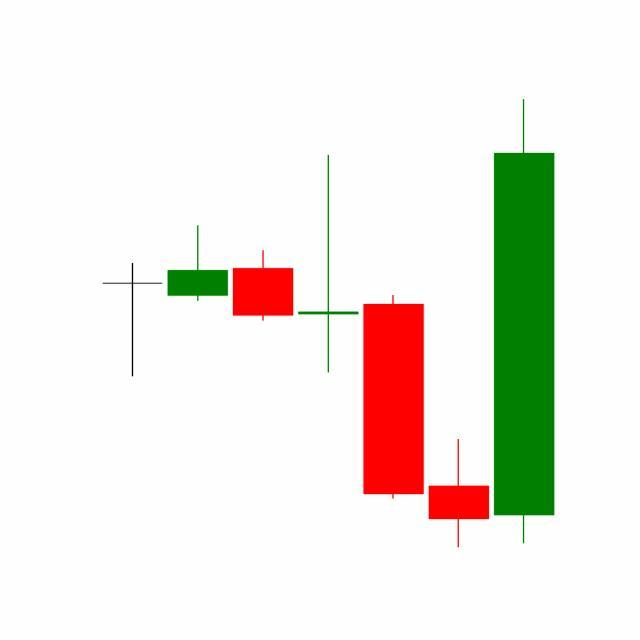Three Outside Up-Down: (295, 151, 492, 549)
